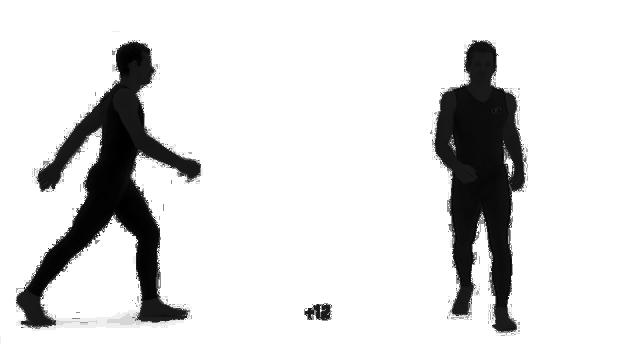berjalan: (16, 38, 204, 328), (428, 42, 532, 334)
